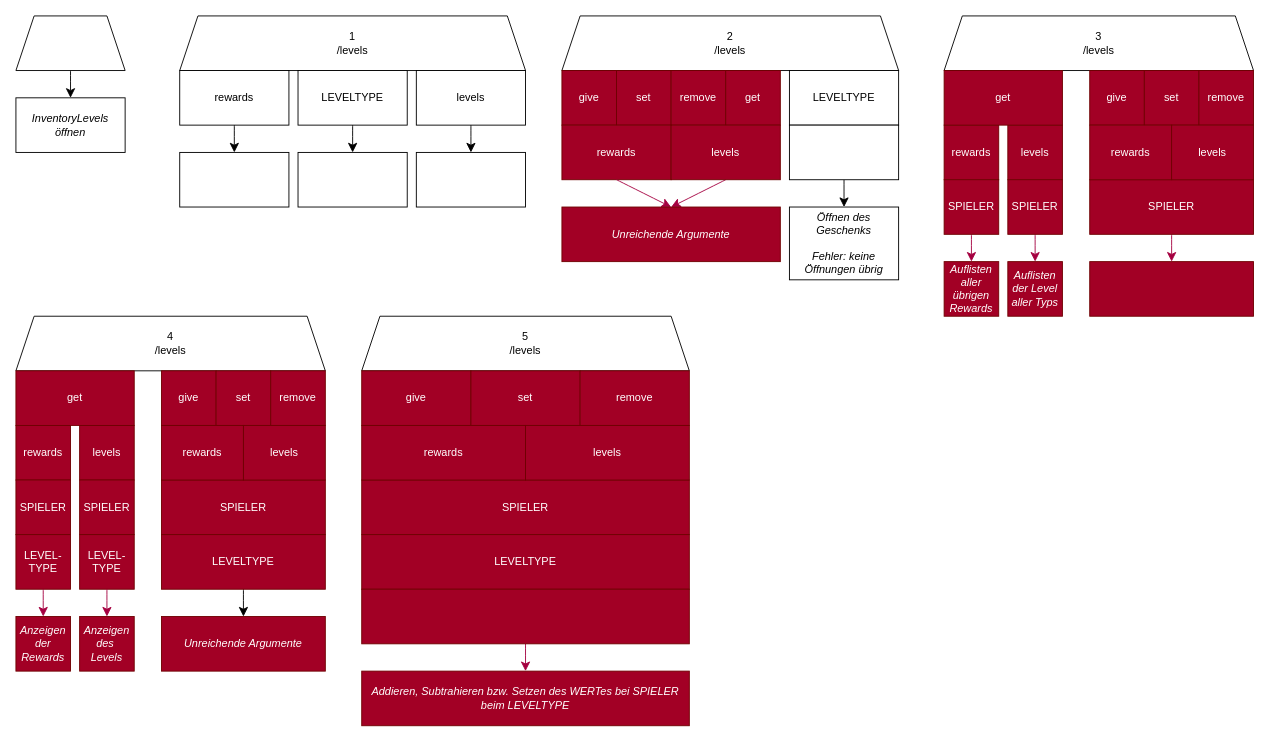
Image size: 1269x742. Some labels were removed from this diagram. The shapes that lost their labels are listed below. From the top down, each one's centre as x and y in pixels, then its label:
At [70,43]: "0 /levels".
At [844,152]: "open".
At [234,179]: "Aufzählen aller übrigen Rewards".
At [352,179]: "Level jeweiligen Typs".
At [470,179]: "Aufzählen der Level".
At [1171,288]: "Ungenügende Argumente".
At [525,616]: "WERT".
